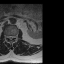CCS_normal: (9, 33, 12, 42)
LFS_normal: (13, 33, 15, 39)
LLS_normal: (12, 33, 14, 40)
RFS_normal: (6, 33, 8, 39)
RLS_normal: (7, 34, 9, 40)
